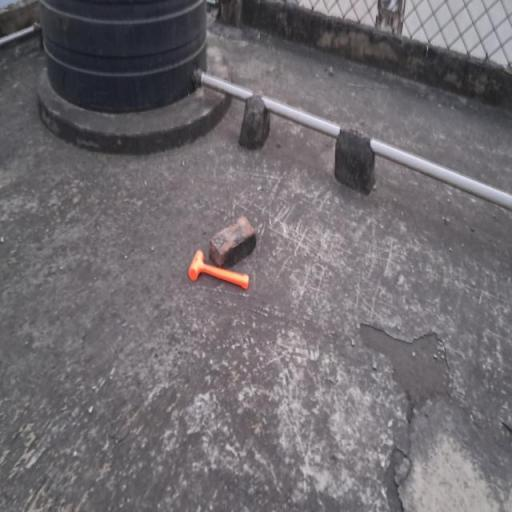mallet: (188, 250, 248, 289)
